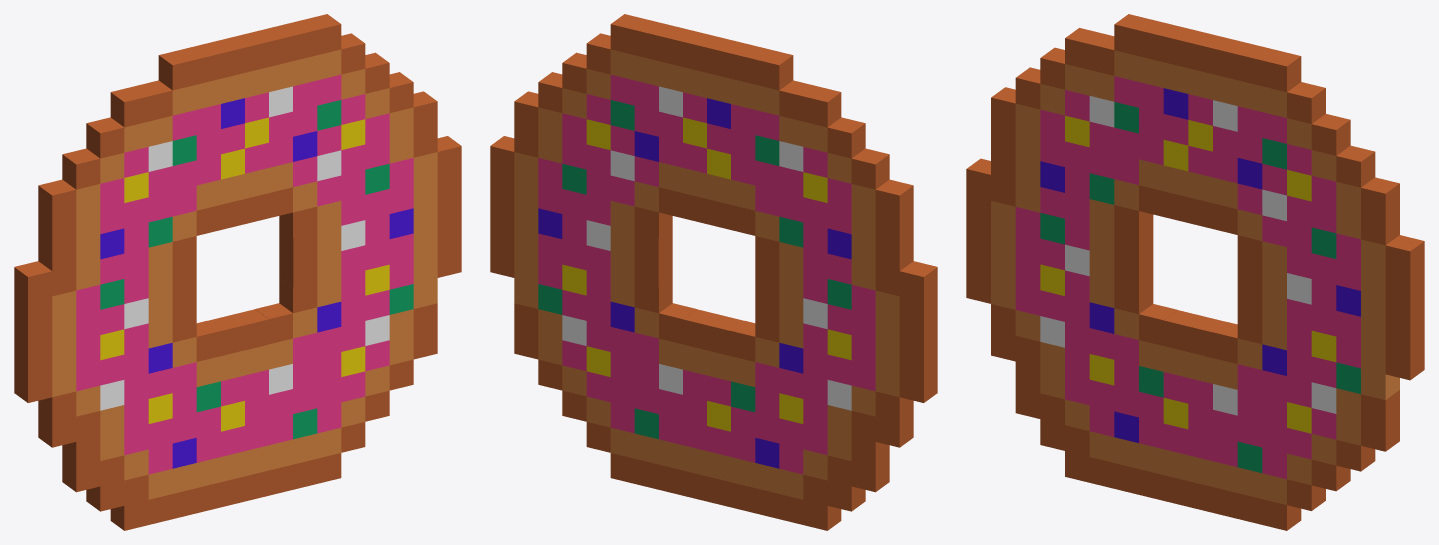
The model's file is p_donut_voxel.fbx.
3 renders of one model, left to right at view 1: azimuth 30°, elevation 25°; view 2: azimuth 150°, elevation 25°; view 3: azimuth 330°, elevation 25°, orthographic. The views are drawn at different scales.
Parts seen in each view (by area): view 1: Donut.voxel.212, Donut.voxel.163, Donut.voxel.225, Donut.voxel.235, Donut.voxel.197, Donut.voxel.240, Donut.voxel.237, Donut.voxel.233, Donut.voxel.238, Donut.voxel.083, Donut.voxel.226, Donut.voxel.239 (+232 smaller); view 2: Donut.voxel.212, Donut.voxel.163, Donut.voxel.225, Donut.voxel.235, Donut.voxel.197, Donut.voxel.240, Donut.voxel.237, Donut.voxel.233, Donut.voxel.238, Donut.voxel.083, Donut.voxel.226, Donut.voxel.239 (+232 smaller); view 3: Donut.voxel.075, Donut.voxel.027, Donut.voxel.041, Donut.voxel.005, Donut.voxel.015, Donut.voxel.057, Donut.voxel.002, Donut.voxel.004, Donut.voxel.153, Donut.voxel.001, Donut.voxel.003, Donut.voxel.154 (+232 smaller).
Part boxes in pixels (left/top/right/bottom): Donut.voxel.212: left=86, top=117, right=124, bottom=158; Donut.voxel.163: left=158, top=49, right=196, bottom=90; Donut.voxel.225: left=62, top=148, right=100, bottom=189; Donut.voxel.235: left=38, top=179, right=76, bottom=220; Donut.voxel.197: left=110, top=86, right=148, bottom=127; Donut.voxel.240: left=14, top=261, right=52, bottom=302; Donut.voxel.237: left=14, top=343, right=52, bottom=377; Donut.voxel.233: left=38, top=236, right=76, bottom=271; Donut.voxel.238: left=14, top=318, right=52, bottom=352; Donut.voxel.083: left=279, top=278, right=317, bottom=313; Donut.voxel.226: left=38, top=412, right=76, bottom=447; Donut.voxel.239: left=14, top=292, right=52, bottom=327; Donut.voxel.212: left=827, top=117, right=865, bottom=158; Donut.voxel.163: left=755, top=49, right=793, bottom=90; Donut.voxel.225: left=851, top=148, right=889, bottom=189; Donut.voxel.235: left=875, top=179, right=913, bottom=220; Donut.voxel.197: left=803, top=86, right=841, bottom=127; Donut.voxel.240: left=899, top=261, right=937, bottom=302; Donut.voxel.237: left=899, top=343, right=937, bottom=377; Donut.voxel.233: left=875, top=236, right=913, bottom=271; Donut.voxel.238: left=899, top=318, right=937, bottom=352; Donut.voxel.083: left=634, top=278, right=672, bottom=313; Donut.voxel.226: left=875, top=412, right=913, bottom=447; Donut.voxel.239: left=899, top=292, right=937, bottom=327; Donut.voxel.075: left=1262, top=50, right=1301, bottom=92; Donut.voxel.027: left=1336, top=145, right=1375, bottom=187; Donut.voxel.041: left=1311, top=114, right=1350, bottom=155; Donut.voxel.005: left=1385, top=235, right=1424, bottom=276; Donut.voxel.015: left=1361, top=177, right=1399, bottom=219; Donut.voxel.057: left=1287, top=82, right=1325, bottom=123; Donut.voxel.002: left=1385, top=318, right=1424, bottom=354; Donut.voxel.004: left=1385, top=267, right=1424, bottom=302; Donut.voxel.153: left=1114, top=278, right=1153, bottom=313; Donut.voxel.001: left=1385, top=344, right=1424, bottom=380; Donut.voxel.003: left=1385, top=293, right=1424, bottom=328; Donut.voxel.154: left=1114, top=252, right=1153, bottom=288.
Bounding box in the file's own units: 1.79 × 1.79 × 0.0997.
